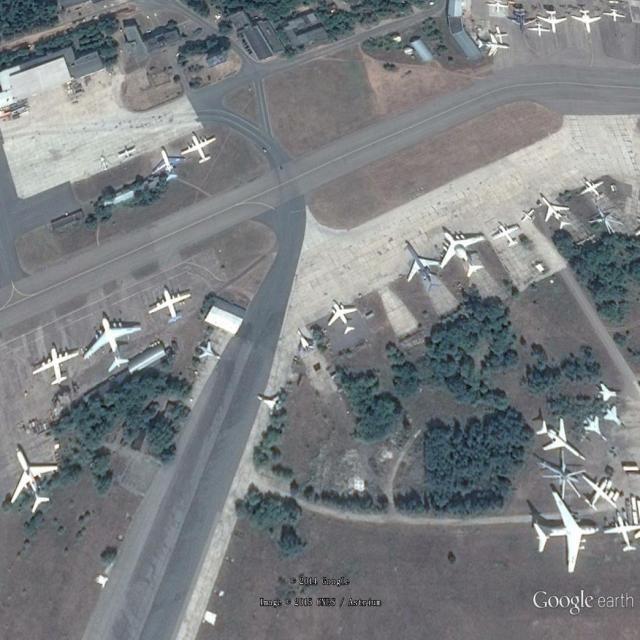aircraft: (531, 491, 606, 575), (9, 445, 63, 519), (83, 315, 143, 376), (536, 416, 588, 464), (31, 343, 83, 388), (403, 238, 444, 295), (440, 230, 486, 280), (148, 286, 194, 326), (602, 509, 640, 554), (149, 144, 190, 185), (179, 129, 219, 169), (581, 475, 620, 513), (327, 300, 360, 337), (541, 194, 572, 233), (476, 30, 513, 59), (536, 8, 571, 36), (571, 10, 605, 36), (595, 380, 628, 406), (492, 222, 521, 249), (604, 404, 629, 435), (585, 414, 610, 444), (507, 11, 537, 35), (579, 179, 607, 204), (295, 328, 316, 360), (197, 340, 223, 364), (257, 391, 282, 415), (488, 25, 511, 47), (526, 22, 553, 40), (603, 7, 628, 26), (117, 145, 138, 163), (487, 1, 512, 15), (522, 208, 539, 225)
